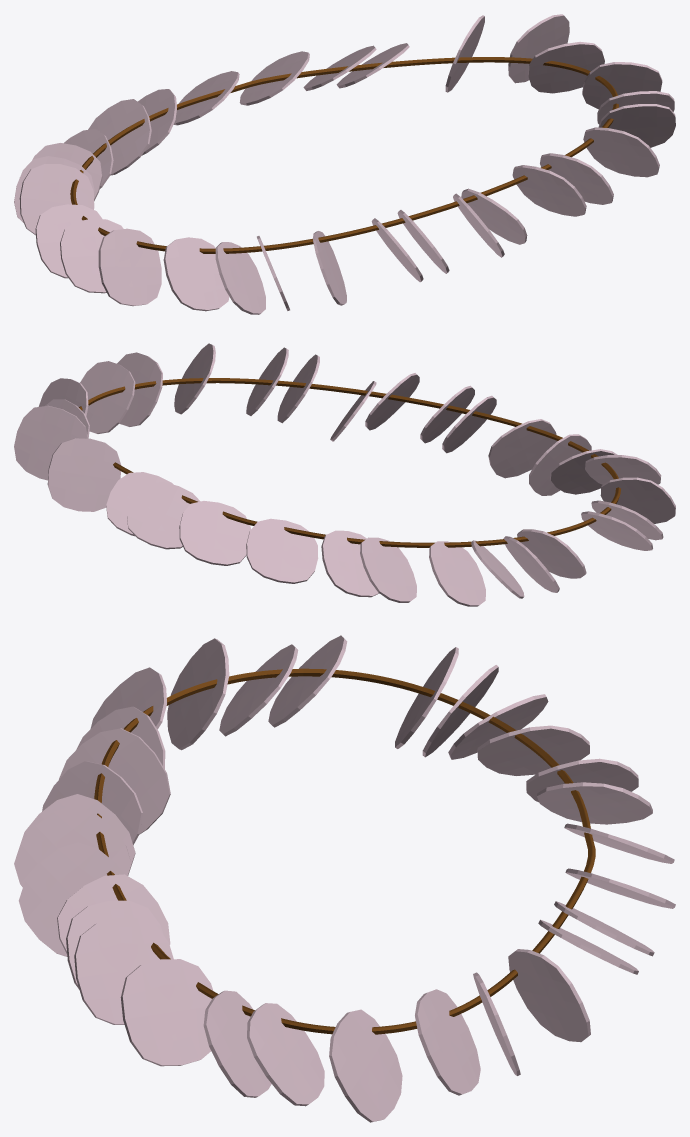
The model's file is Unu_Awil.glb.
3 renders of one model, top to bottom at view 1: azimuth 30°, elevation 25°; view 2: azimuth 150°, elevation 25°; view 3: azimuth 270°, elevation 25°, orthographic. The views are drawn at different scales.
Parts seen in each view (by area): view 1: pCube93.004; view 2: pCube93.004; view 3: pCube93.004.
Boxes of the visible parts, box(x1,y1,x2,y2) form: pCube93.004: box(14, 14, 675, 314); pCube93.004: box(14, 343, 675, 606); pCube93.004: box(14, 635, 675, 1122).
Bounding box in the file's own units: 4.72 × 0.6852 × 3.08.
Materials: 1 (1 with a texture image).
